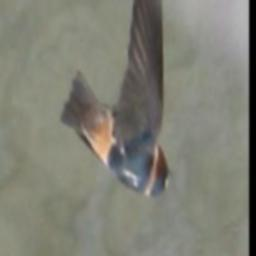Swallow: (60, 0, 174, 208)
